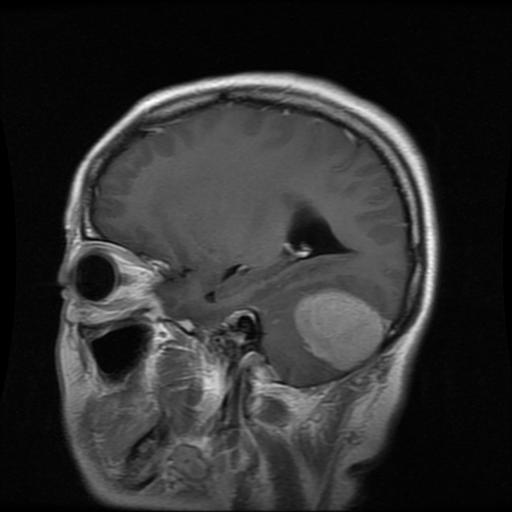Menigiomia_tumour: (292, 286, 387, 369)
